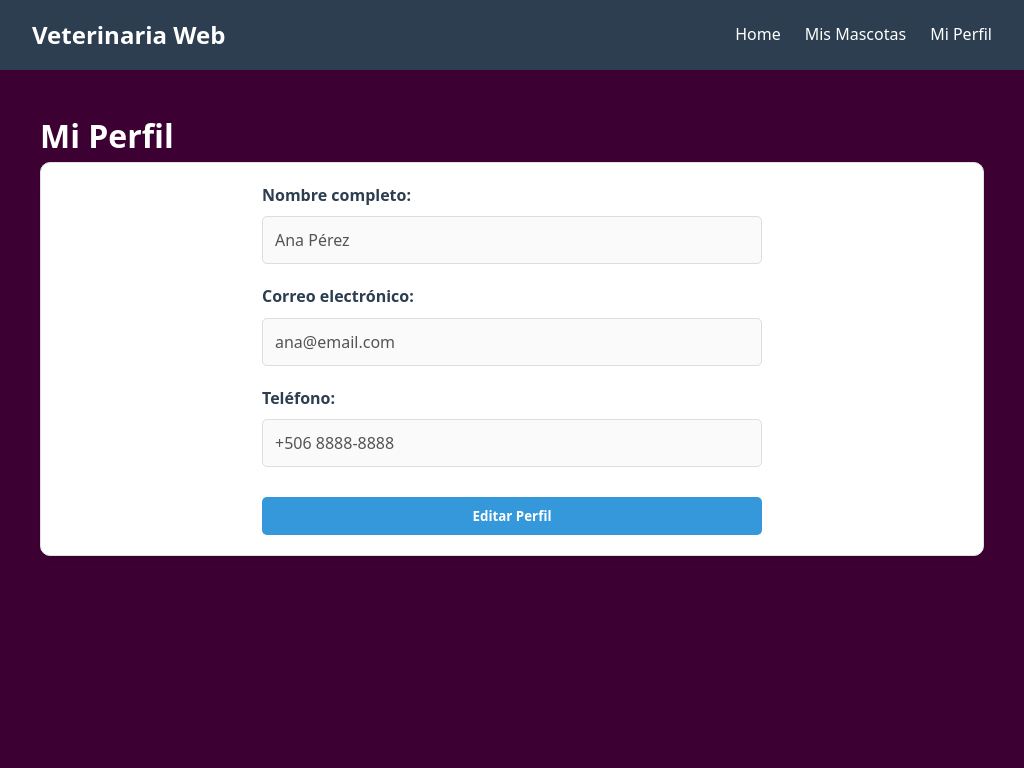
Scenario: Client Profile Page - Veterinaria App › should cancel editing without saving
Click the button "Editar Perfil": coordinates (512, 516) [262,497,762,535]
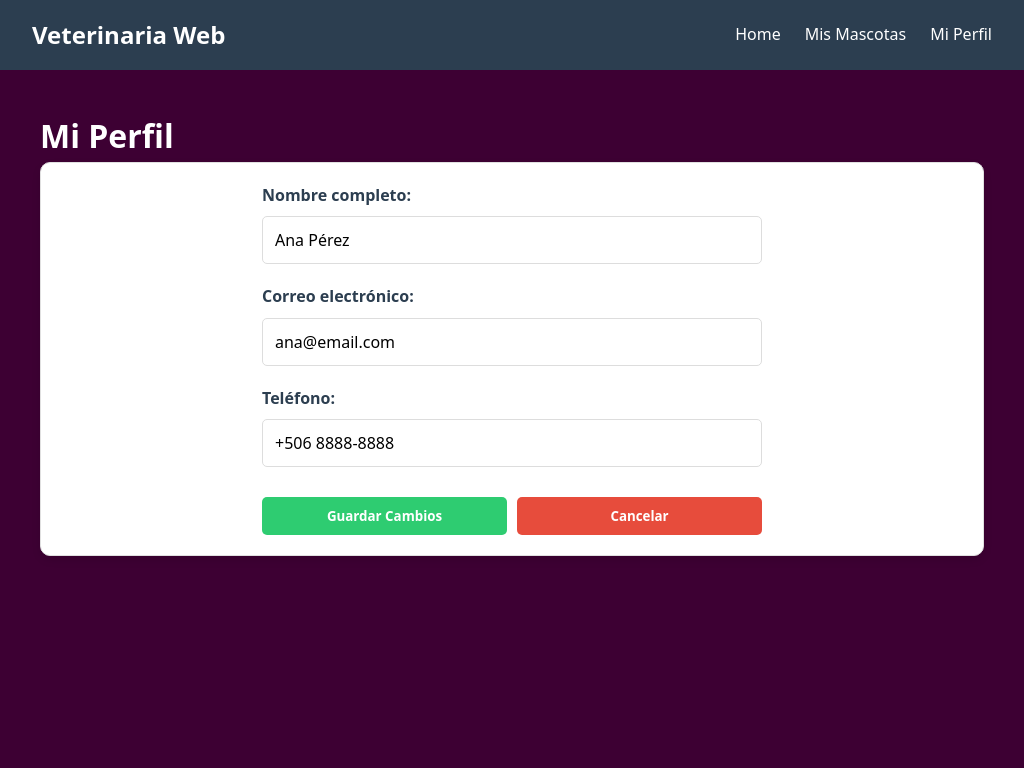
Replace the text in the field named "name" below "Nombre completo:" with "Temporary Change": coordinates (512, 240) [262,216,762,264]
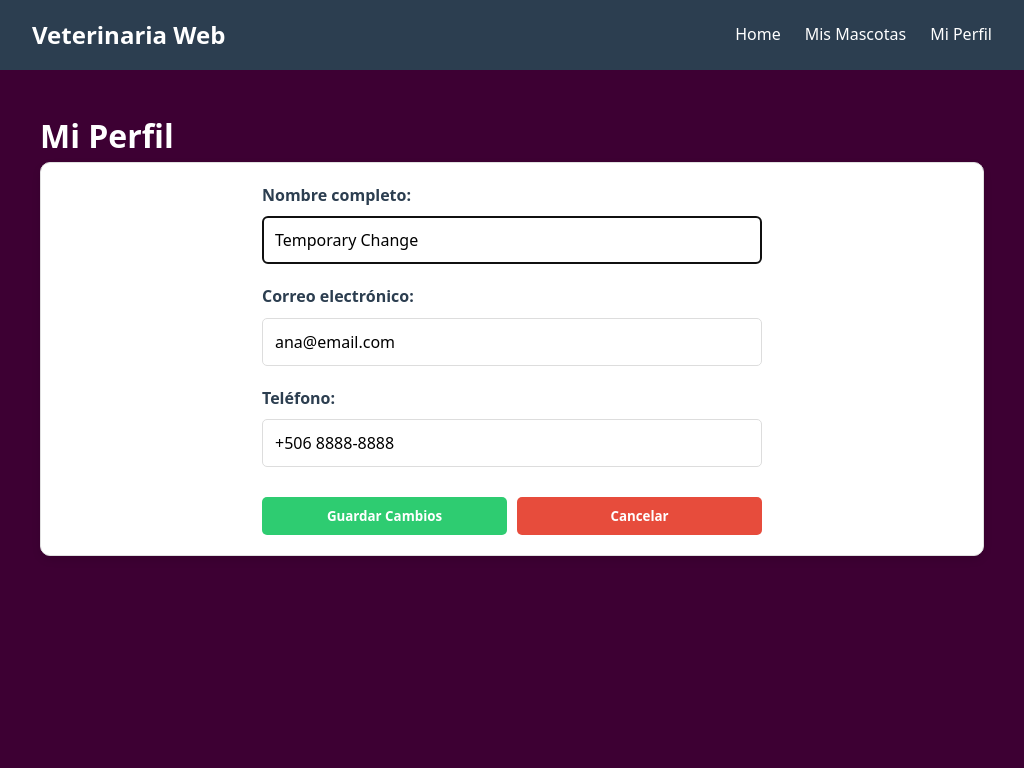
Click the button "Cancelar": coordinates (640, 516) [517,497,762,535]
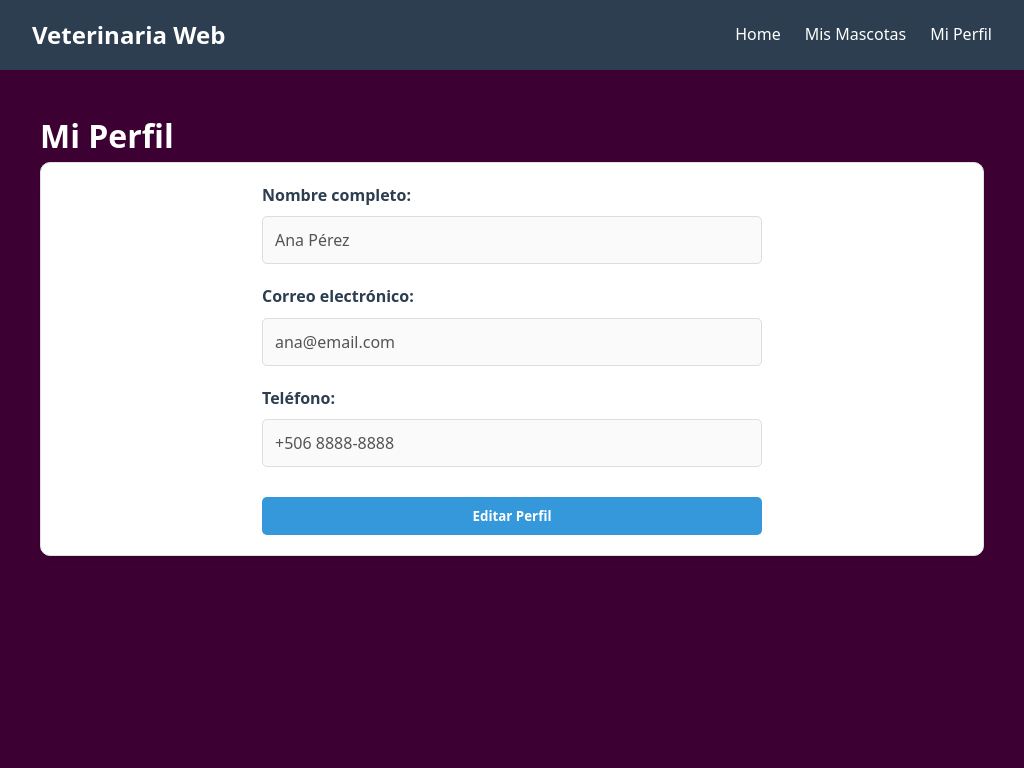
Now the field named "name" below "Nombre completo:" holds "Ana Pérez", box [262,216,762,264]
